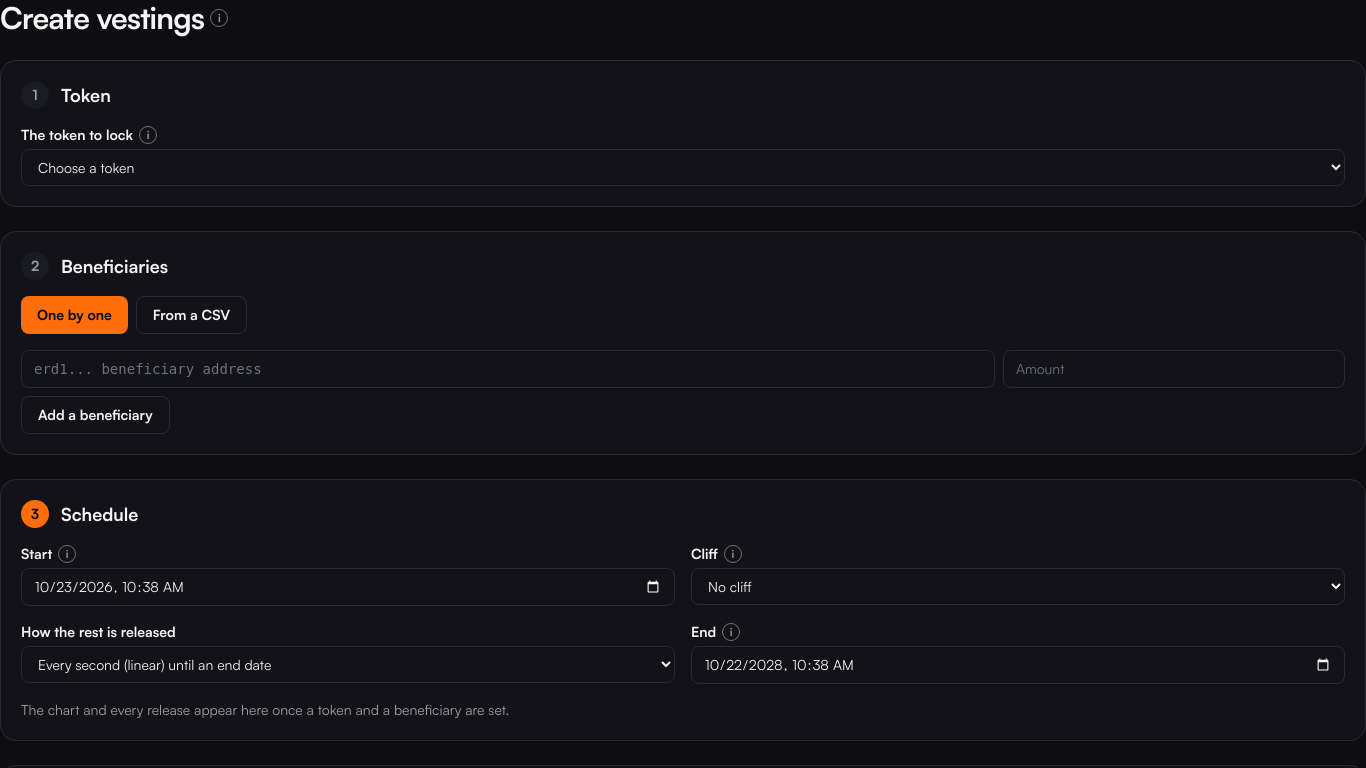
Test: Create with the token fee set › counts the fee in the balance check
Select "TFOX (TFOX-d61b09): 1,005" in the dropdown showing "Choose a token" below "The token to lock": coordinates (683, 168) [21,149,1345,186]
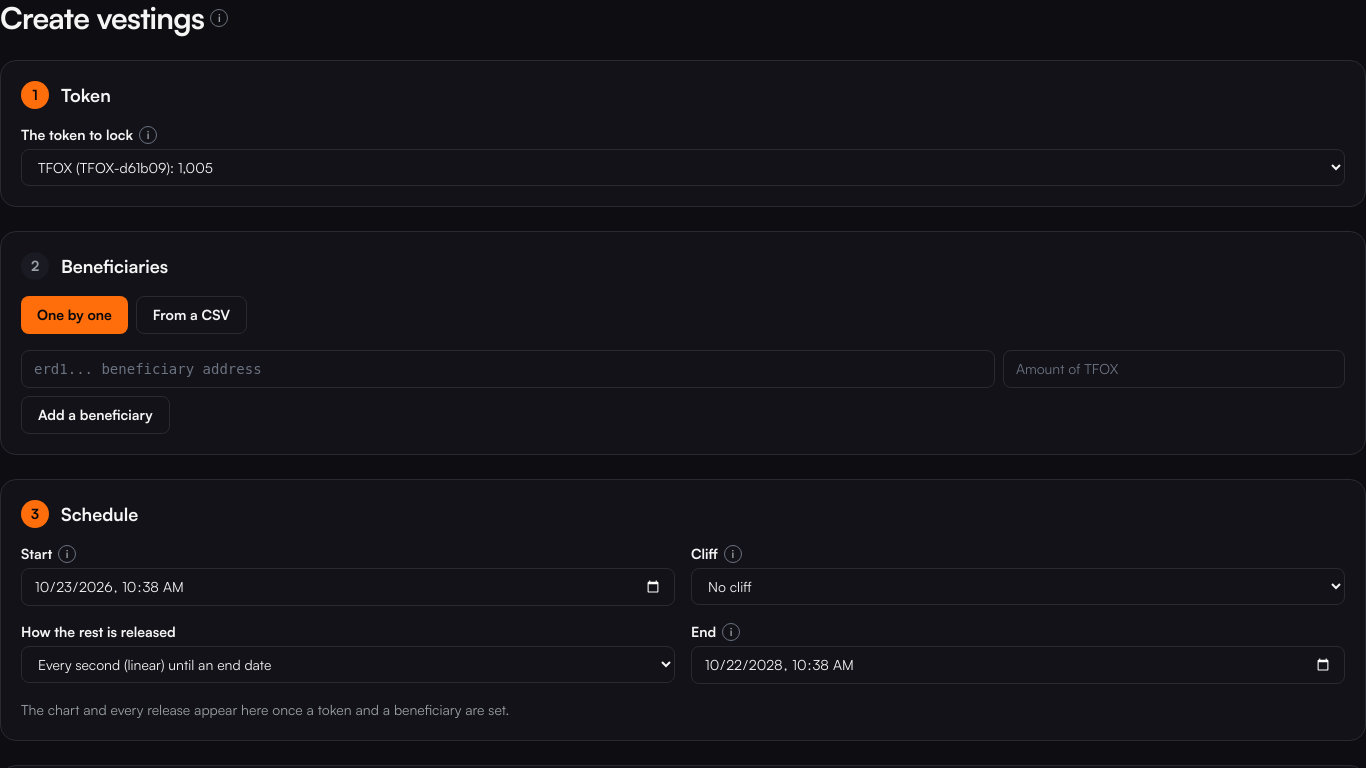
In the field with placeholder "erd1... beneficiary address": coordinates (508, 369) [21,350,995,388], type "erd14e7zqk5qz47fu7z75rmvzrzt5cvmffe9n7s73679xt6khu09erksehgl4u"
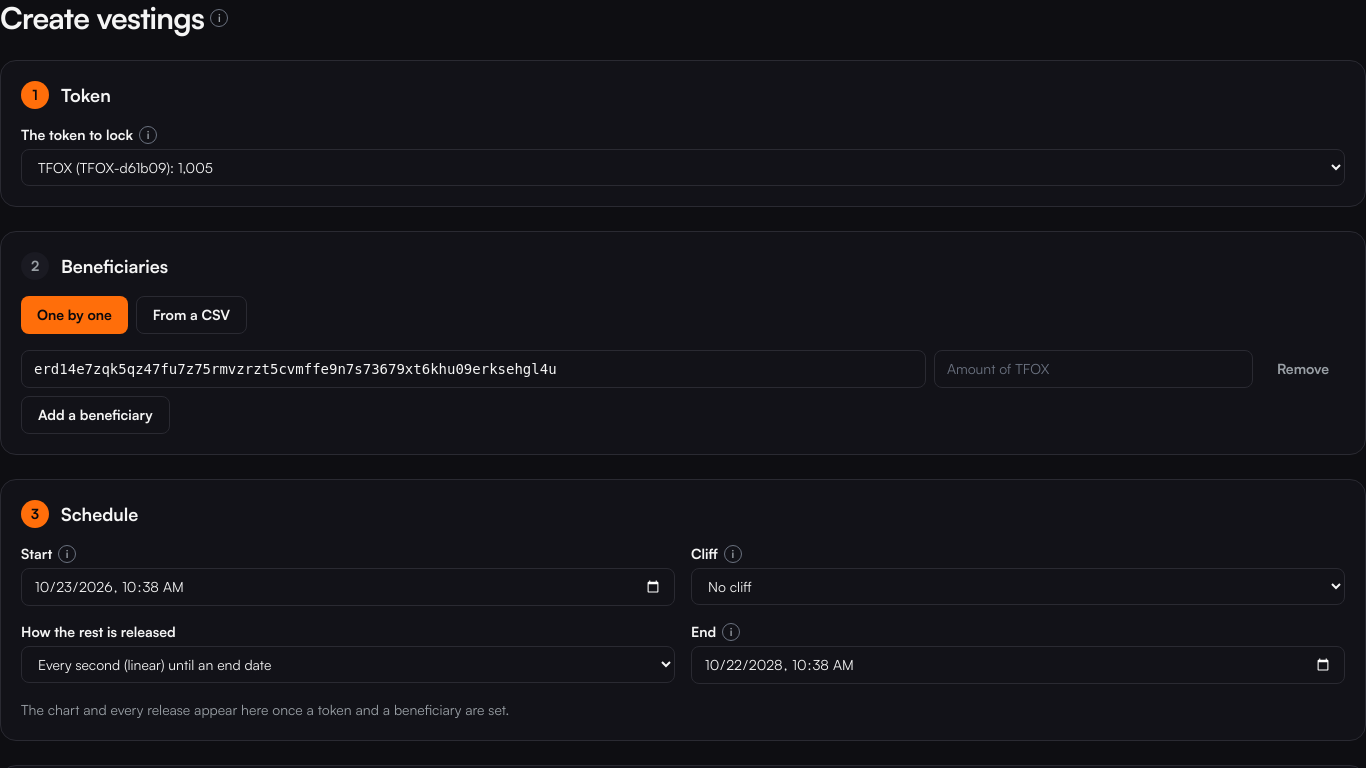
In the field with placeholder "Amount of TFOX": coordinates (1094, 369) [934,350,1253,388], type "1000"
(page scrolled)
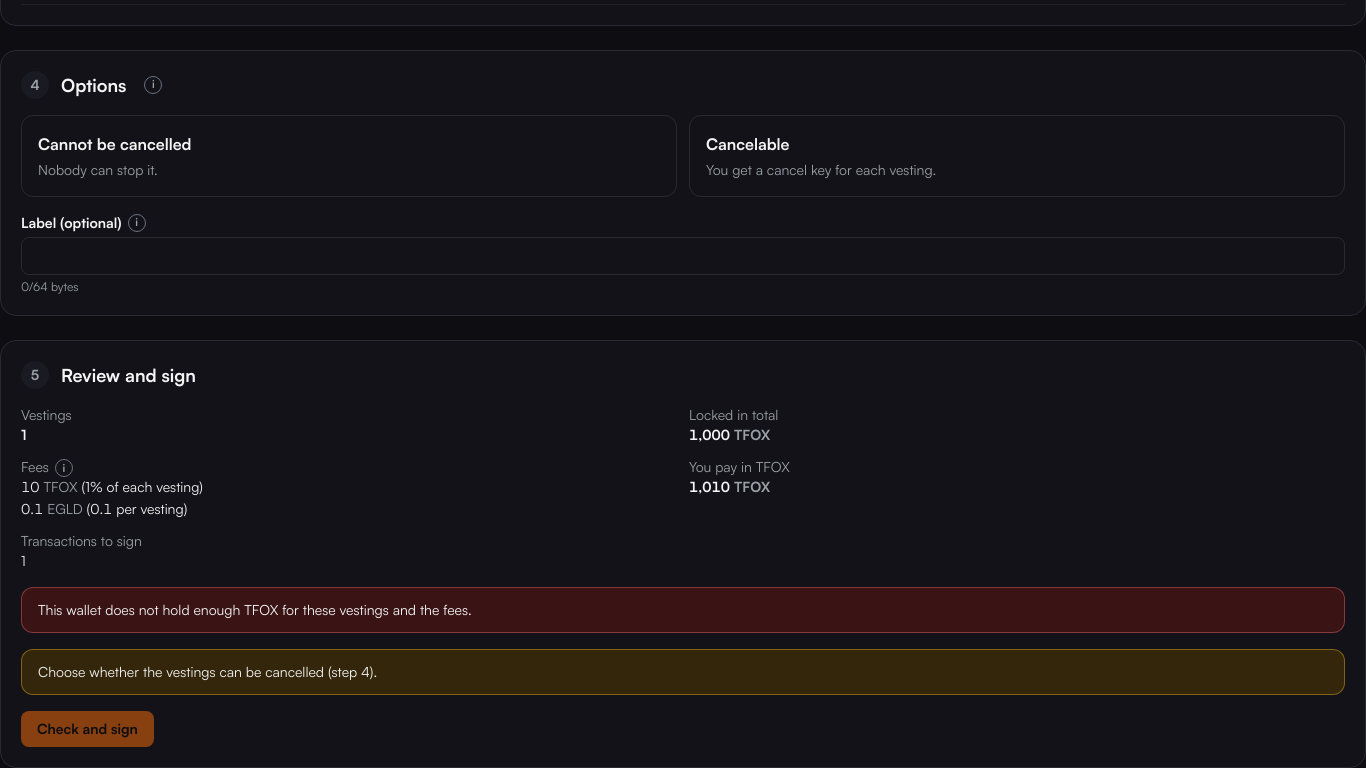
Check: the text "does not hold enough TFOX for these vestings and the fees" is shown, box [21,587,1345,633]
